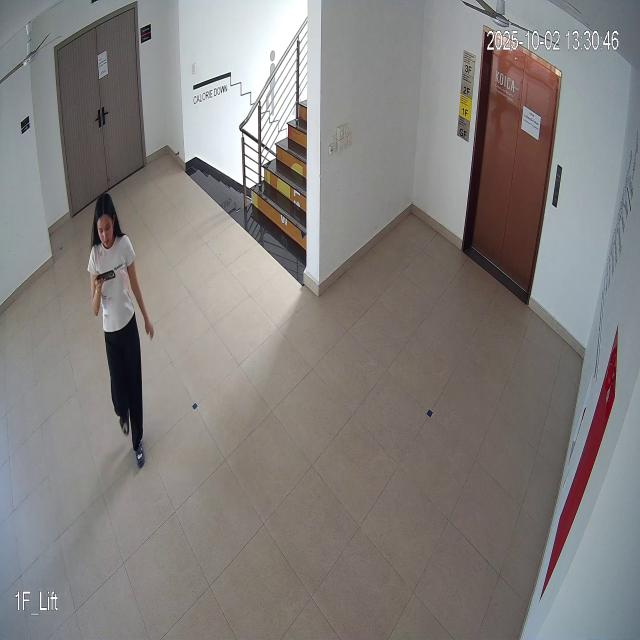face: (90, 186, 119, 252)
